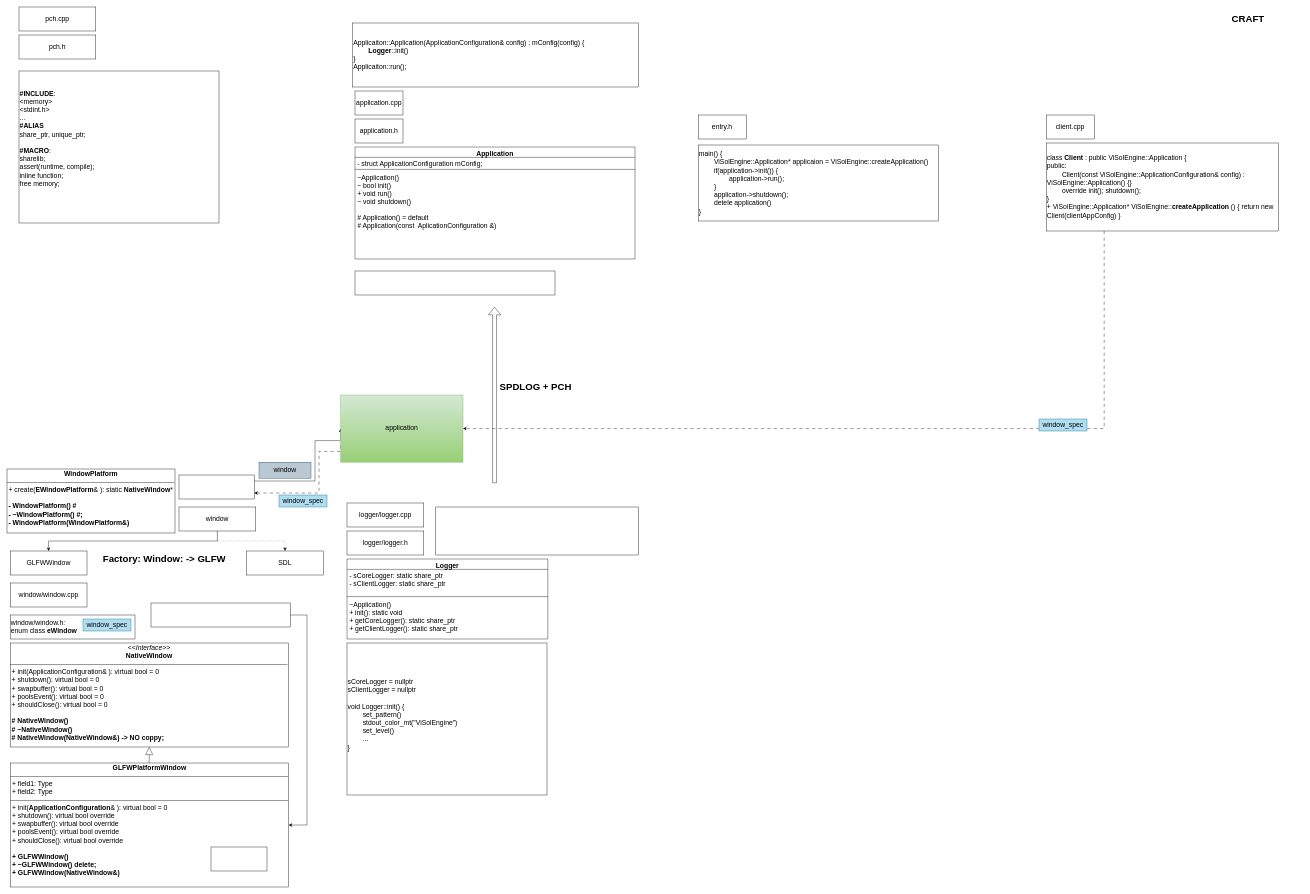
Image size: 1310x894. Some labels were removed from this diagram. The shapes that lost their labels are listed below. From the top down, each one's centre as x and y in pixels, then its label:
the point at 455,283: ViSolEngine::Application* createApplication()
the point at 216,487: window platform
the point at 536,531: MACRO DEFINITION # define LOG_WITH_DETAIL(logger, level, ...) logger->log(<...>)
the point at 220,615: window/GLFWPlatformwindow.cpp
the point at 239,859: Implementation
